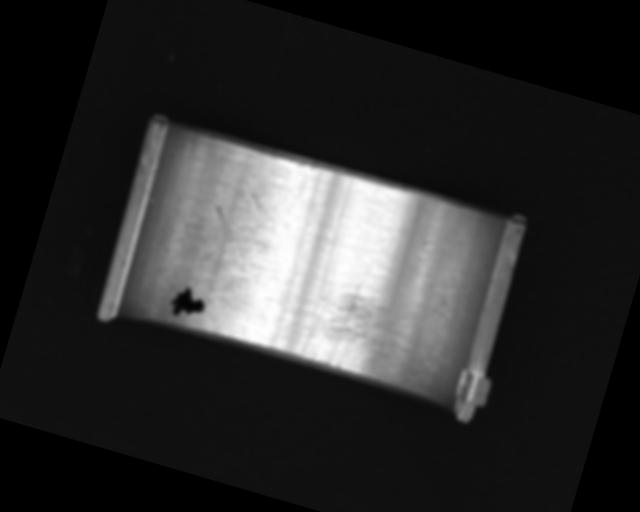blot: (165, 281, 210, 323)
bruise: (238, 181, 269, 213)
nick: (200, 205, 258, 272)
scratch: (297, 272, 445, 394)
